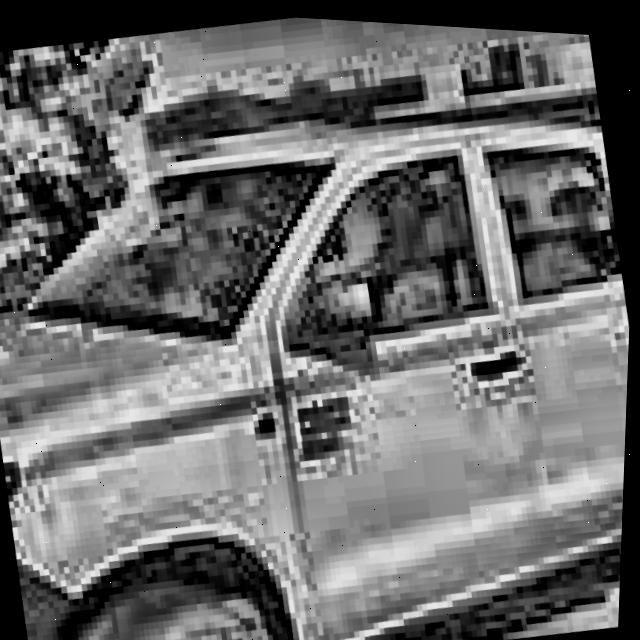light_vehicle: (0, 6, 640, 640)
